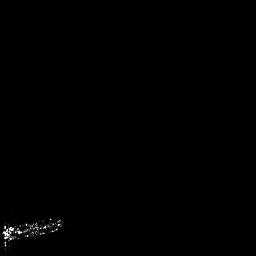ship: (2, 215, 61, 241)
